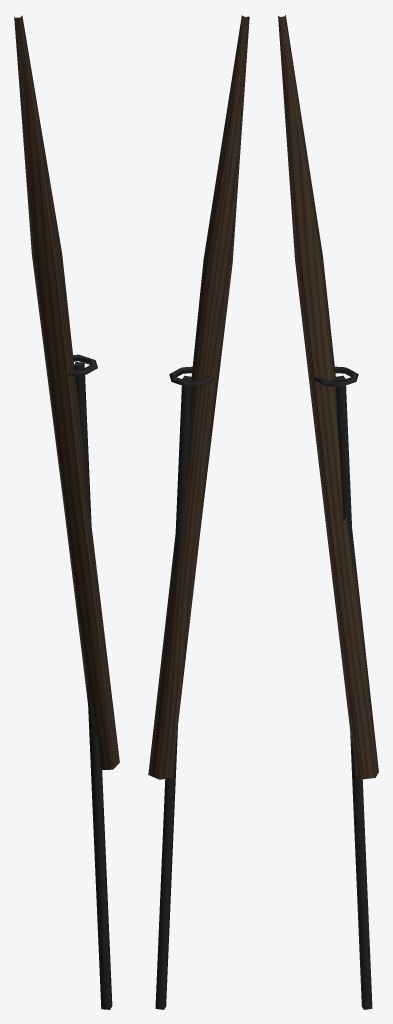
The model's file is torch_L0.glb.
The picture shows the model from 3 angles, left to right: view 1: azimuth 30°, elevation 25°; view 2: azimuth 210°, elevation 25°; view 3: azimuth 330°, elevation 25°; orthographic projection. The views are drawn at different scales.
Visible parts, largest first — view 1: torch, spike, ring; view 2: torch, spike, ring; view 3: torch, spike, ring.
Part boxes in pixels (x1,y1,x2,y2): torch: (14,15,119,770); spike: (74,362,112,1009); ring: (66,354,97,376); torch: (148,15,249,779); spike: (155,375,192,1009); ring: (169,366,214,387); torch: (278,15,378,779); spike: (335,375,372,1009); ring: (313,366,358,386).
Size of the model in its own units: 0.1114 by 1.04 by 0.046.
Materials: 2 (1 with a texture image).
